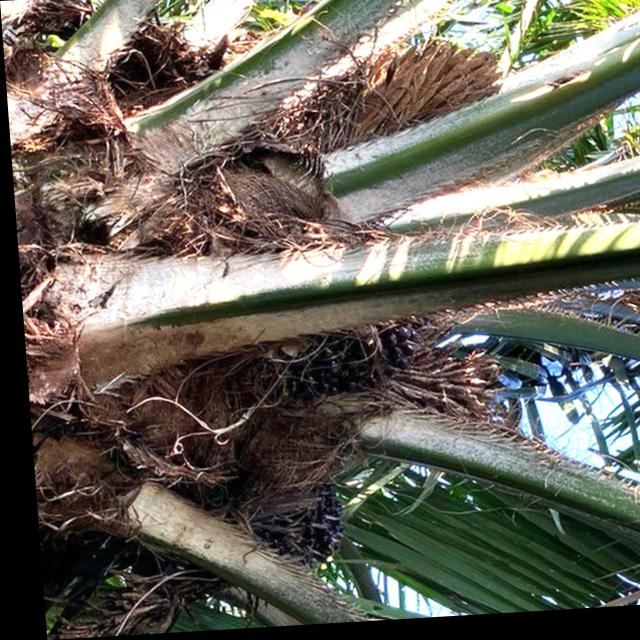almost: (224, 298, 432, 419)
